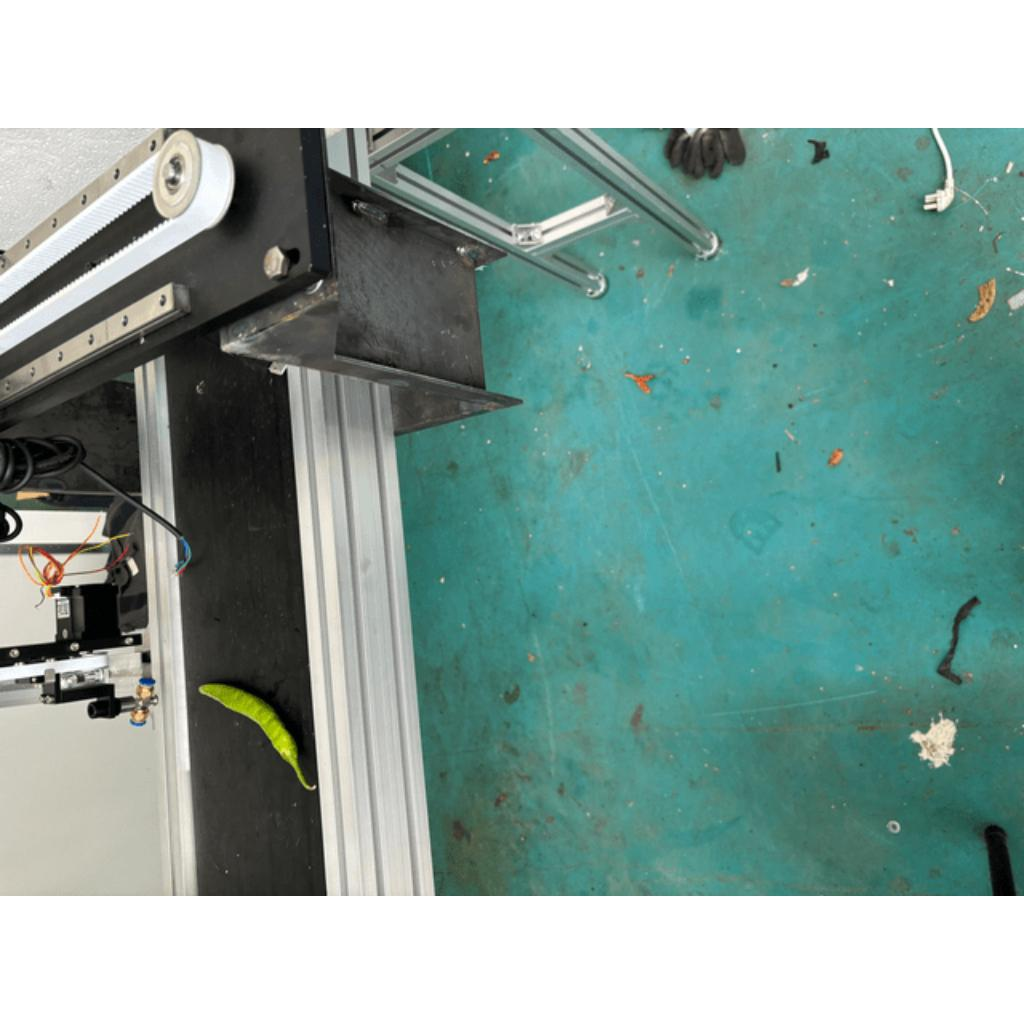chili: (194, 681, 301, 769)
